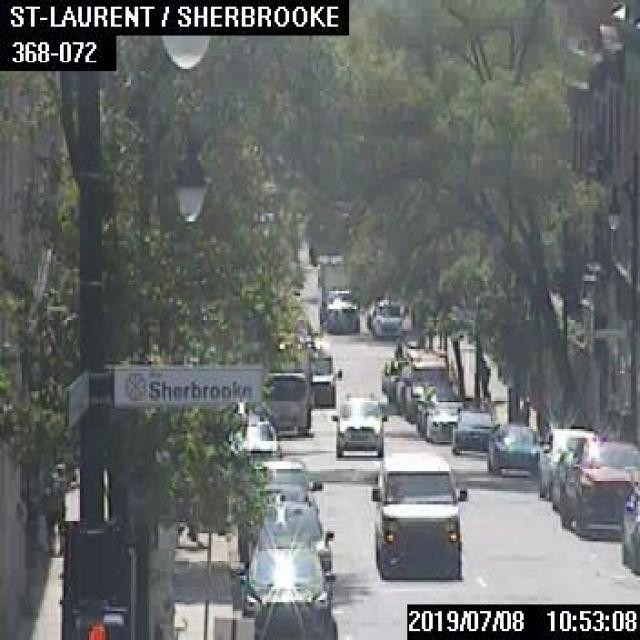pedestrian: (480, 357, 489, 401)
vehicle: (370, 452, 466, 574), (238, 539, 333, 638), (559, 436, 638, 534), (240, 500, 333, 572), (537, 426, 600, 499), (246, 478, 320, 534), (330, 395, 386, 454), (247, 454, 321, 497), (262, 370, 310, 434), (406, 357, 448, 421), (487, 423, 538, 472), (42, 461, 66, 556), (223, 418, 280, 458), (620, 468, 638, 575), (308, 350, 341, 405), (451, 409, 492, 453), (424, 398, 465, 441), (416, 386, 455, 431), (321, 289, 358, 332), (366, 296, 402, 336), (548, 449, 563, 510), (293, 322, 321, 352), (393, 364, 407, 413)
